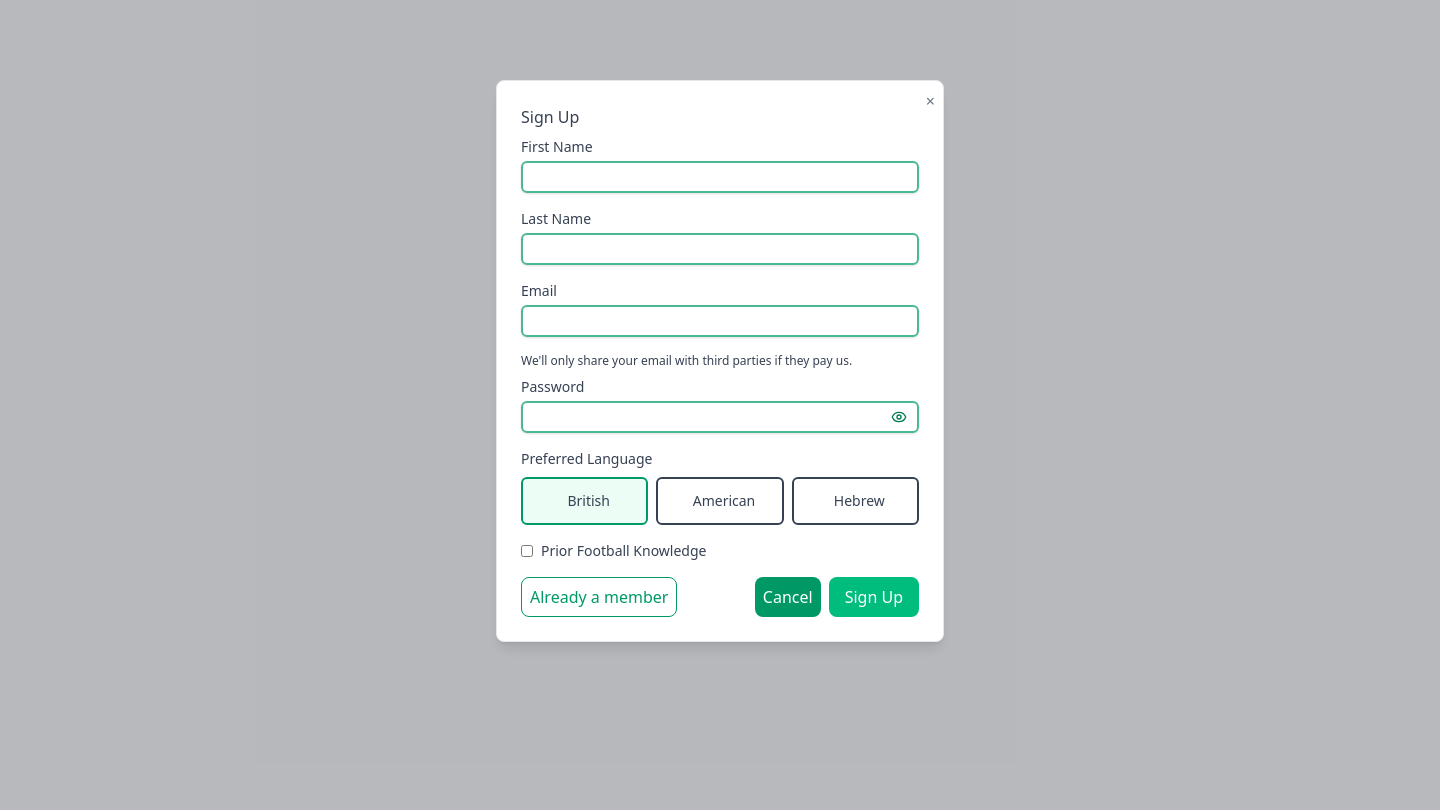
Test case: SignUpForm › validation › requires a password of at least six characters
Step 1. Type "Yekutiel" into the field labelled "First Name" → [720, 177], box [521,161,919,193]
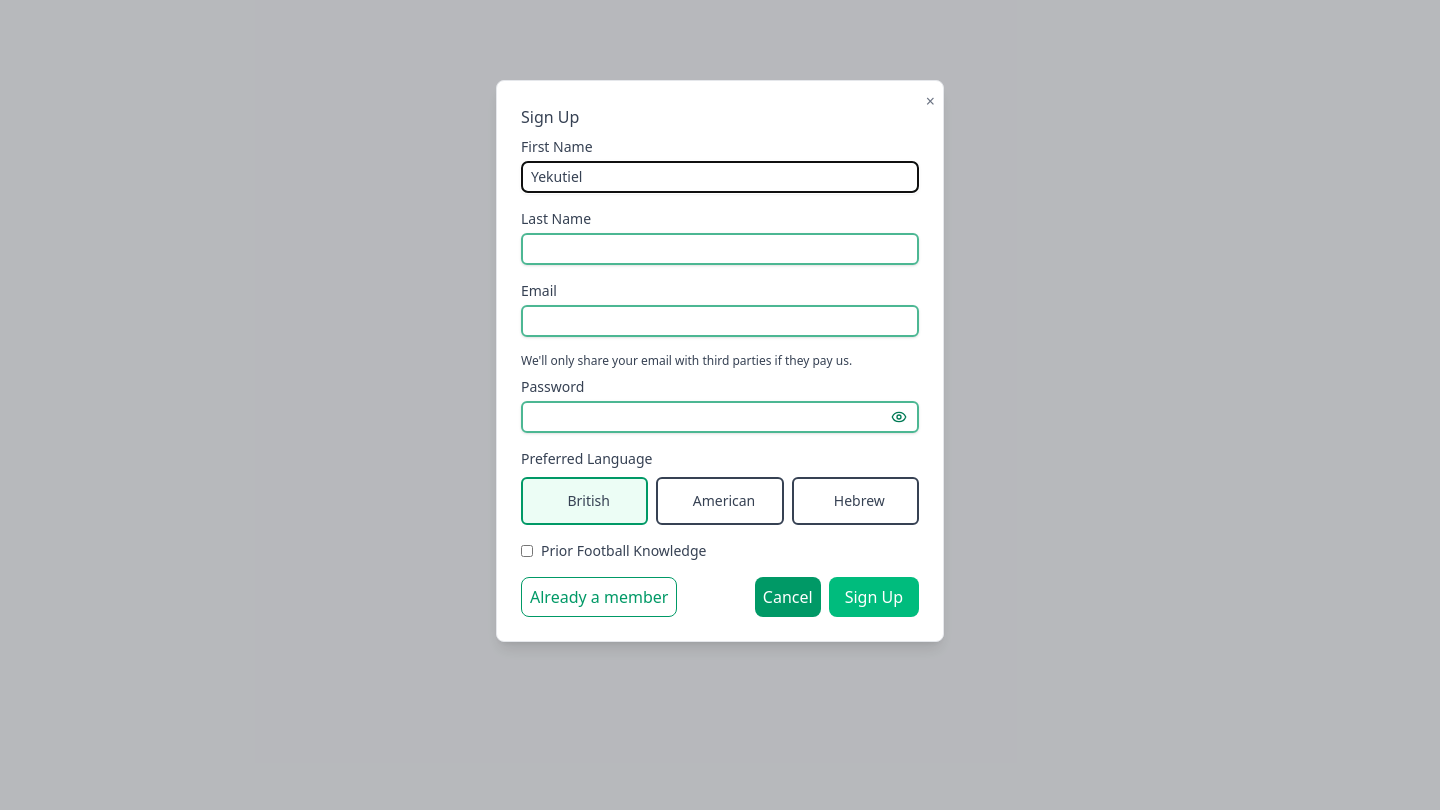
Step 2. Type "Cohen" into the field labelled "Last Name" → [720, 249], box [521,233,919,265]
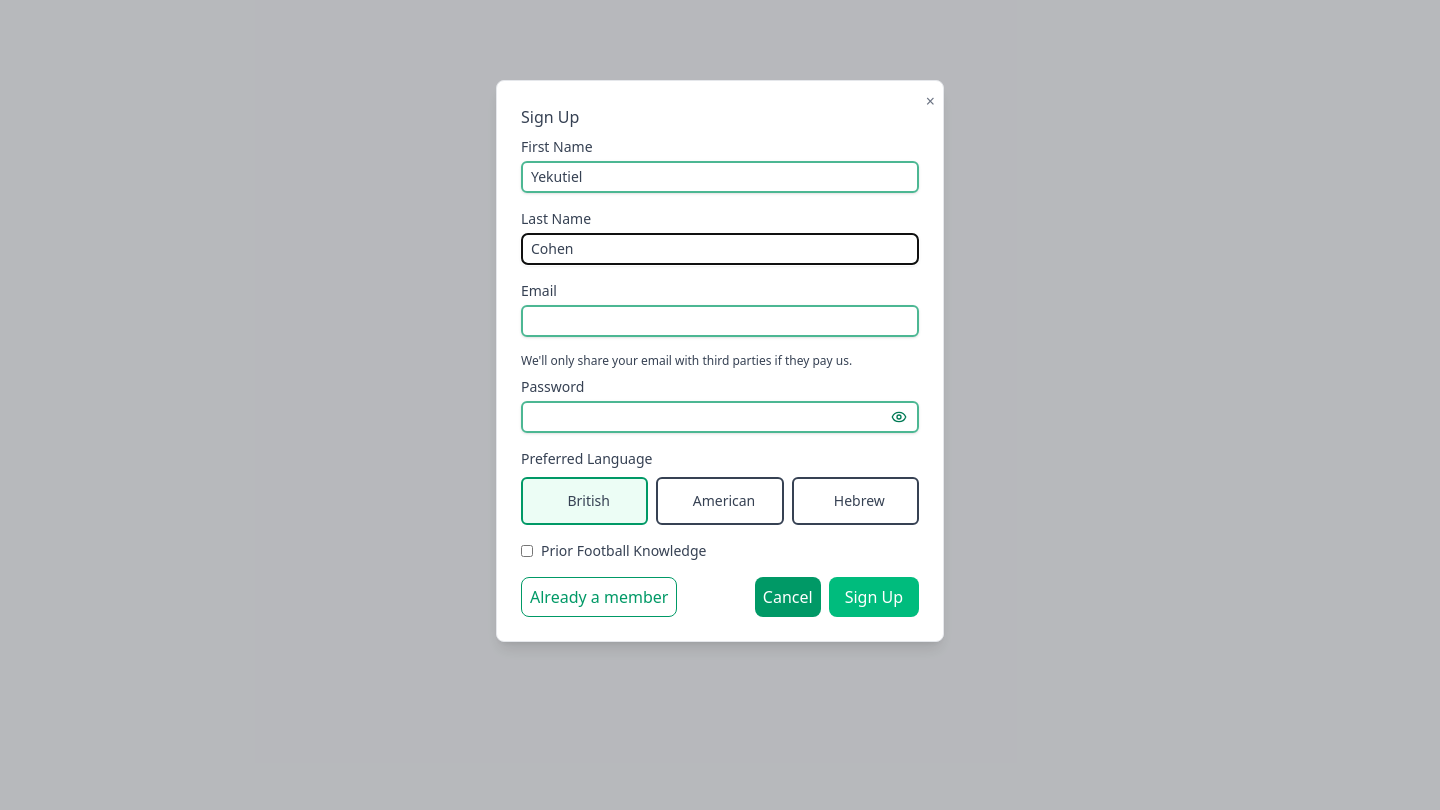
Step 3. Type "yekutiel@example.com" into the field labelled "Email" → [720, 321], box [521,305,919,337]
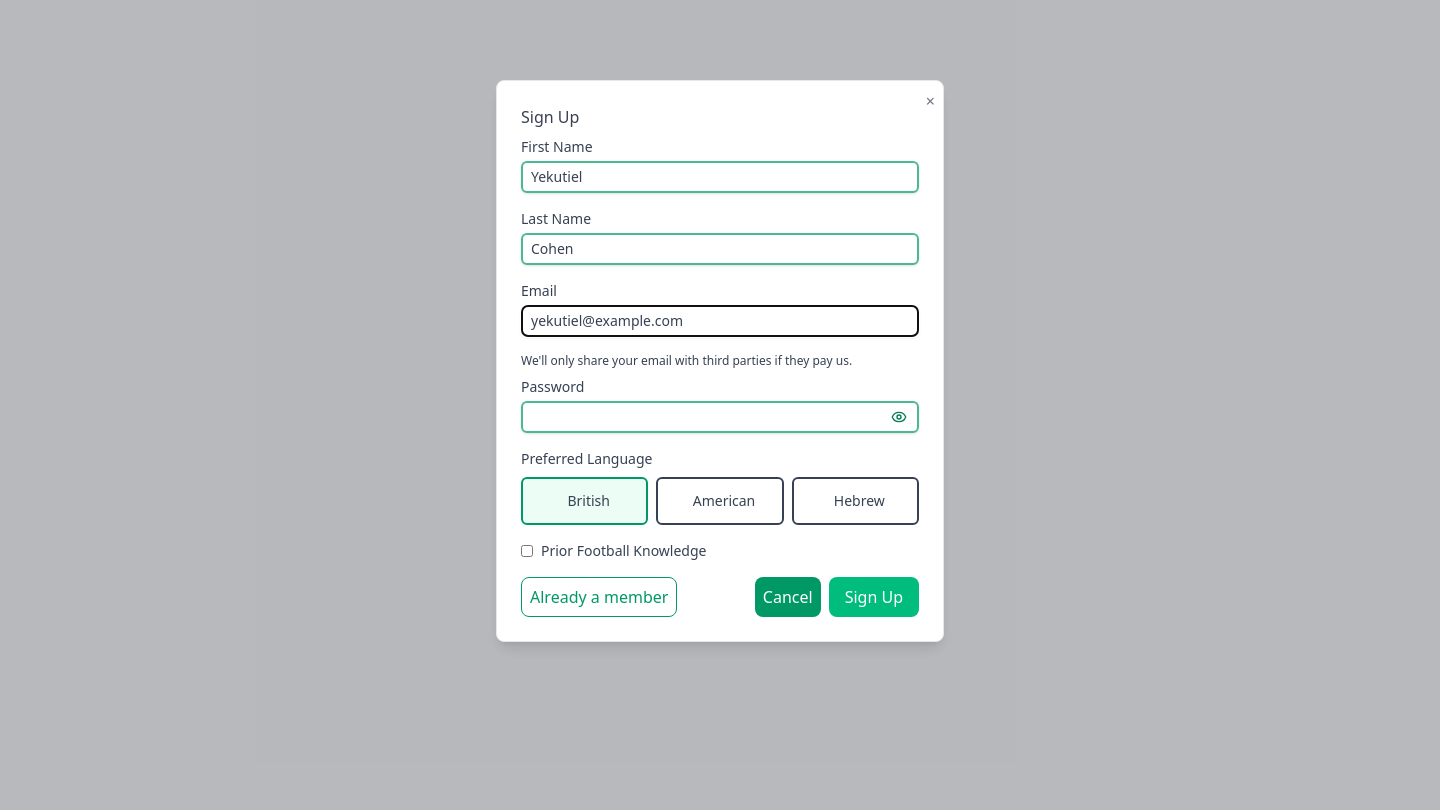
Step 4. Type "12345" into the password field labelled "Password" → [720, 417], box [521,401,919,433]
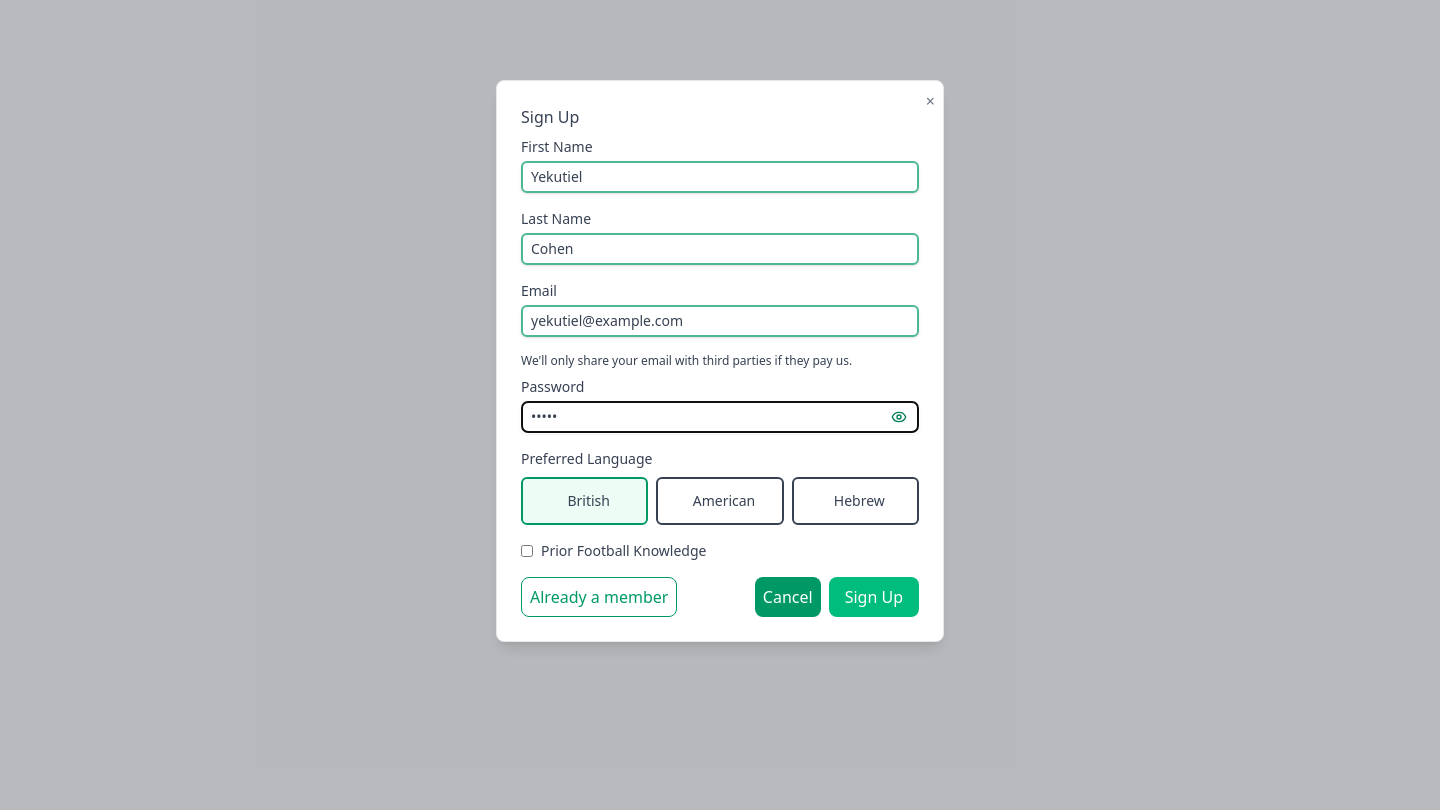
Step 5. Click the button "Sign Up" → [874, 597], box [829,577,919,617]
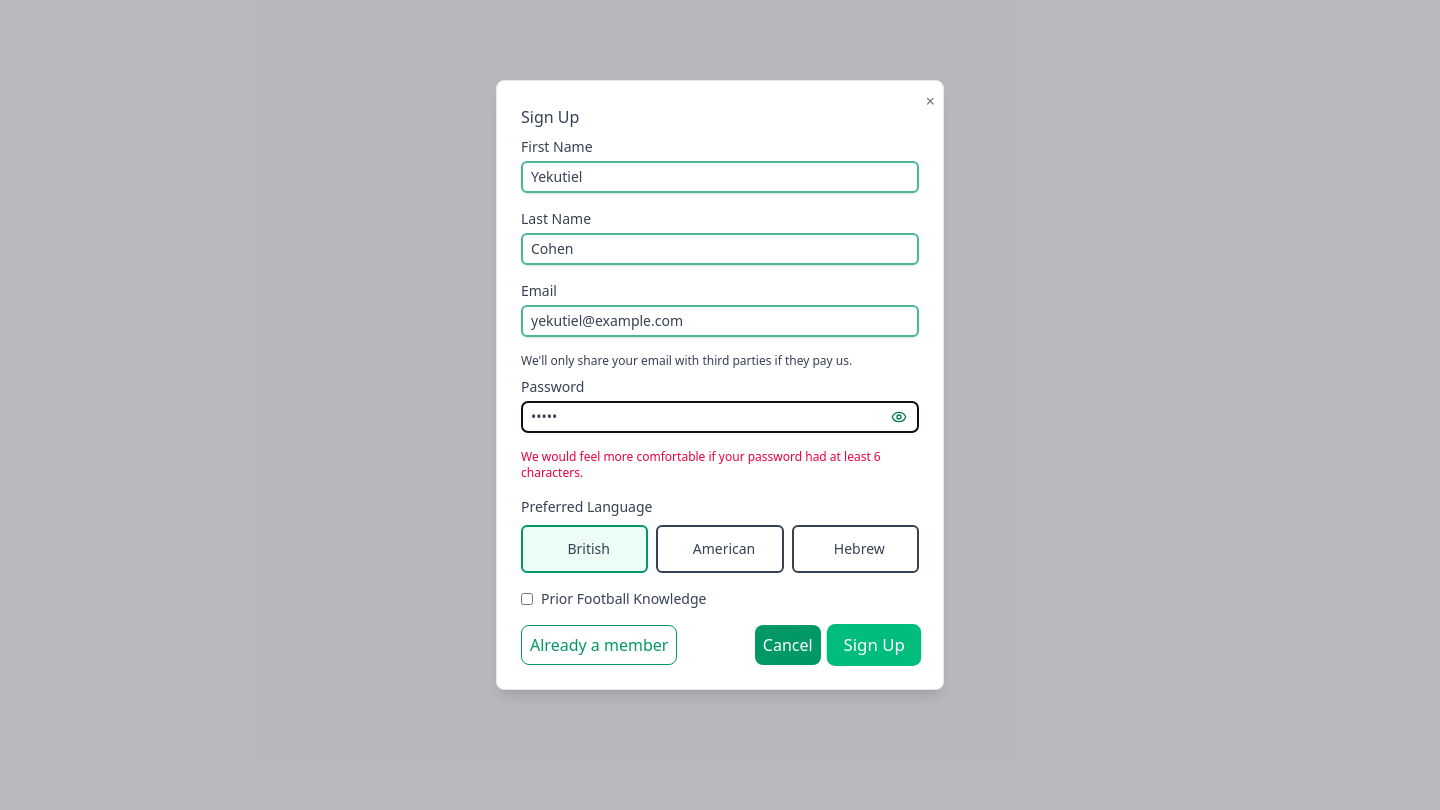
Check: the text "at least 6 characters" is shown, box [521,448,881,481]
